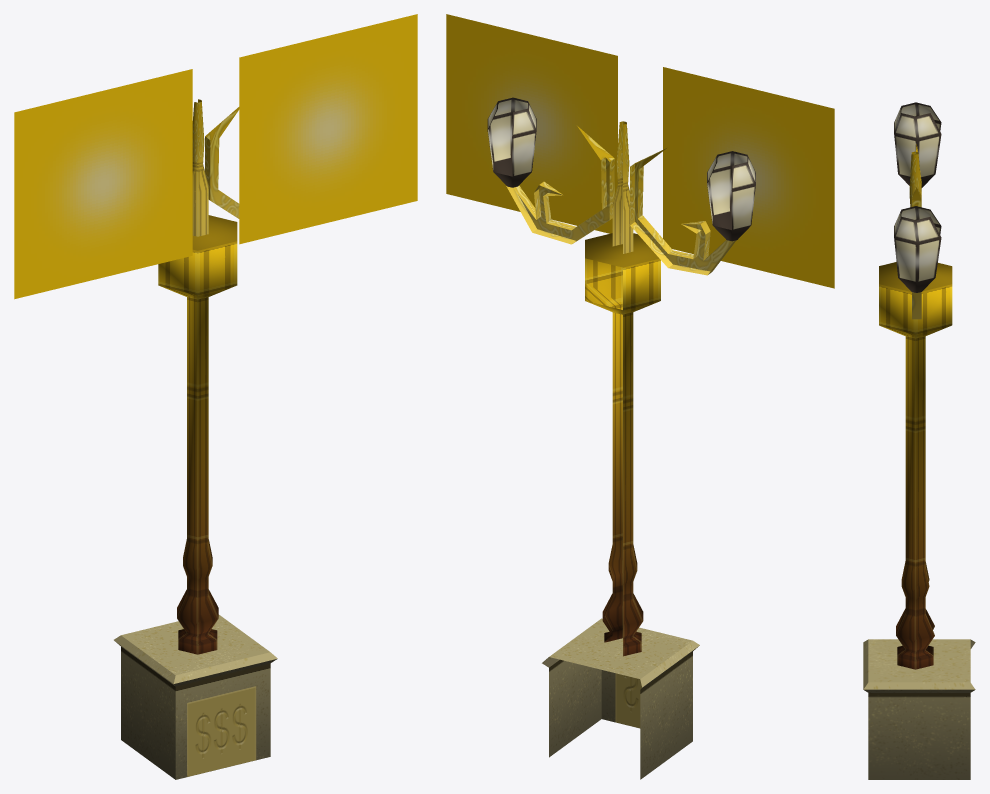
File: Elvis_StreetLamp.FBX
The picture shows the model from 3 angles, left to right: view 1: azimuth 30°, elevation 25°; view 2: azimuth 150°, elevation 25°; view 3: azimuth 270°, elevation 25°; orthographic projection. The views are drawn at different scales.
Visible parts, largest first — view 1: StreetLamp, StrretLampGlow, StrretLampGlow001; view 2: StreetLamp, StrretLampGlow001, StrretLampGlow; view 3: StreetLamp.
Part boxes in pixels (x1,y1,x2,y2): StreetLamp: (114, 99, 277, 779); StrretLampGlow: (239, 14, 417, 244); StrretLampGlow001: (14, 69, 192, 299); StreetLamp: (487, 97, 755, 779); StrretLampGlow001: (663, 67, 834, 288); StrretLampGlow: (446, 14, 617, 233); StreetLamp: (863, 102, 975, 779).
Size of the model in its own units: 11.3 by 18.73 by 2.92.
